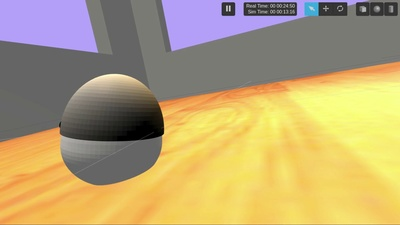mira_robot: (58, 73, 166, 185)
